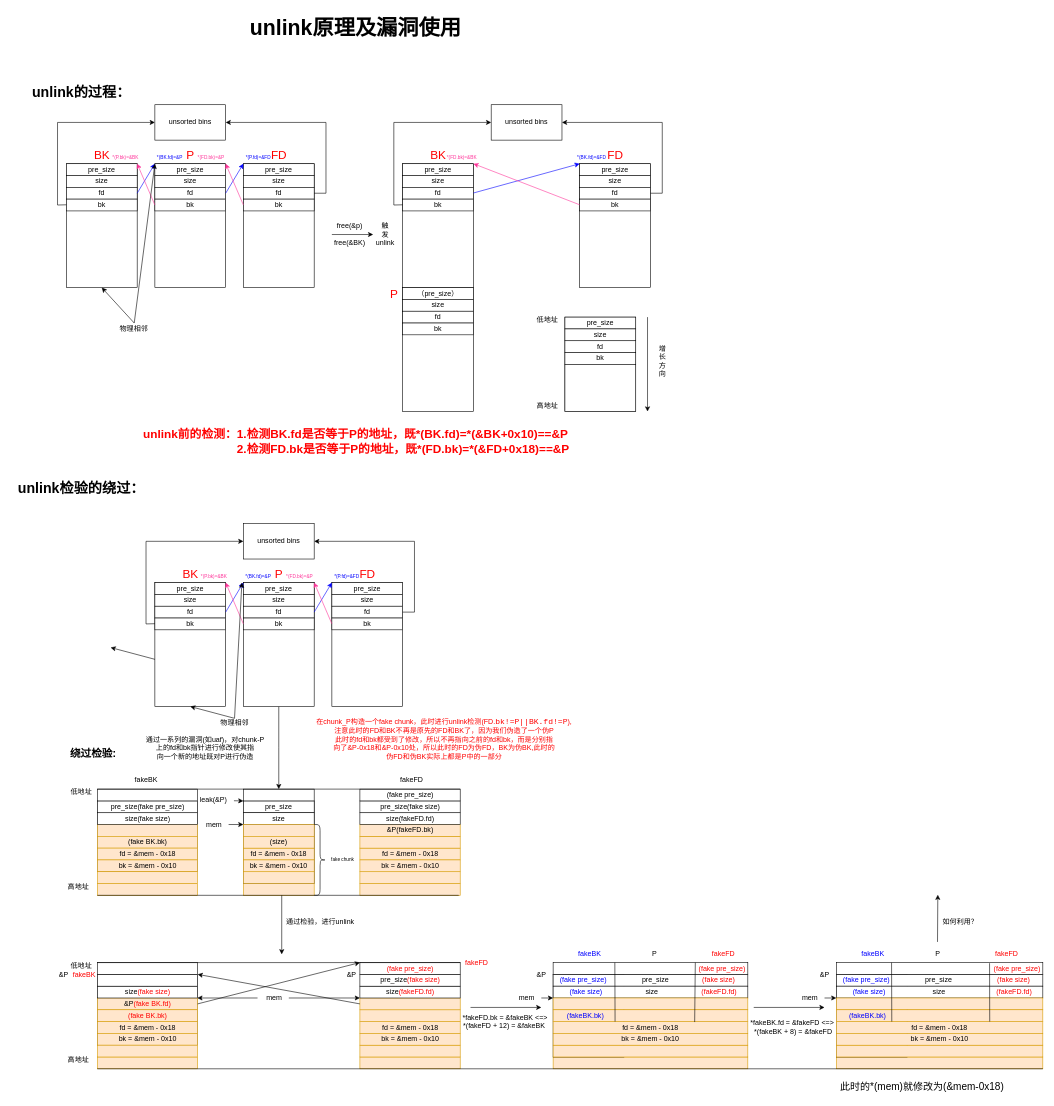
This 1054x1106 diagram has some shape labels left out. Each missing label, with the box of its shape:
&P (fakeFD.bk): (359, 997, 460, 1010)
&P(fake BK.fd): (97, 824, 198, 836)
&P(fake pre_size): (243, 824, 314, 836)
(fakeBK.fd) &men-0x10(改前&P) (fakeFD.bk): (553, 997, 748, 1010)
(fakeBK.fd) &men-0x18(改前&men-0x18) (fakeFD.bk): (836, 997, 1043, 1010)
data: (564, 364, 636, 412)
pre_size (fake pre_size): (97, 974, 198, 986)
